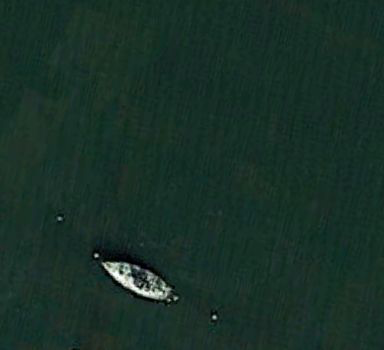boat: (97, 259, 176, 303)
